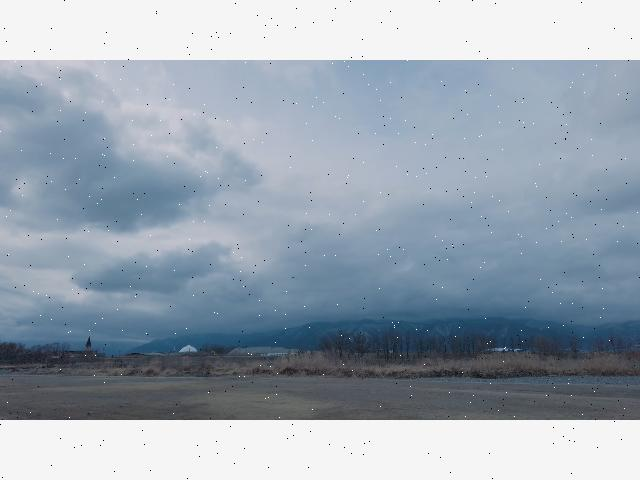Anti-Drone: (289, 274, 299, 281)
